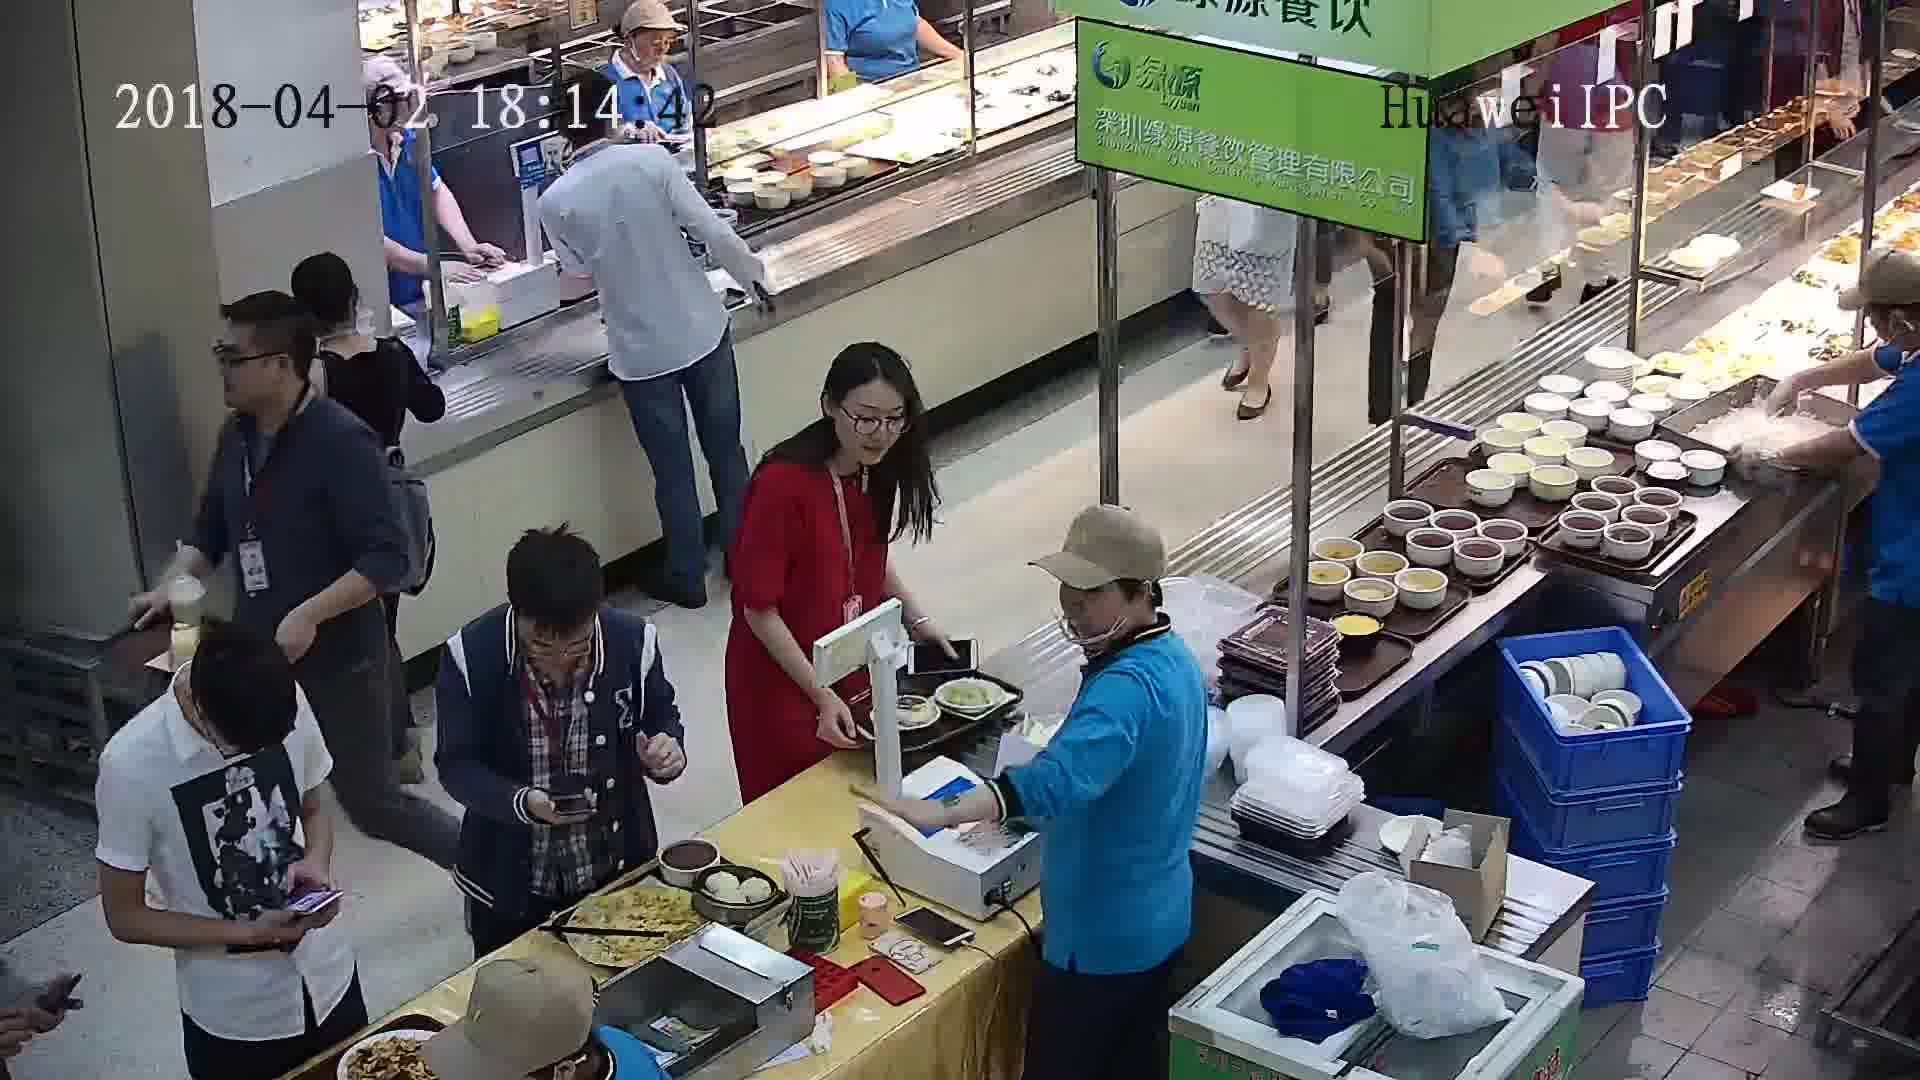face: (201, 320, 291, 410), (827, 378, 915, 466), (526, 615, 584, 673), (629, 21, 680, 72)
person: (91, 619, 314, 829), (1030, 494, 1208, 735), (446, 522, 667, 705), (743, 341, 938, 528), (203, 294, 374, 492), (542, 73, 678, 220), (288, 247, 404, 389), (1855, 251, 1919, 441), (598, 3, 687, 99), (364, 74, 436, 185)
